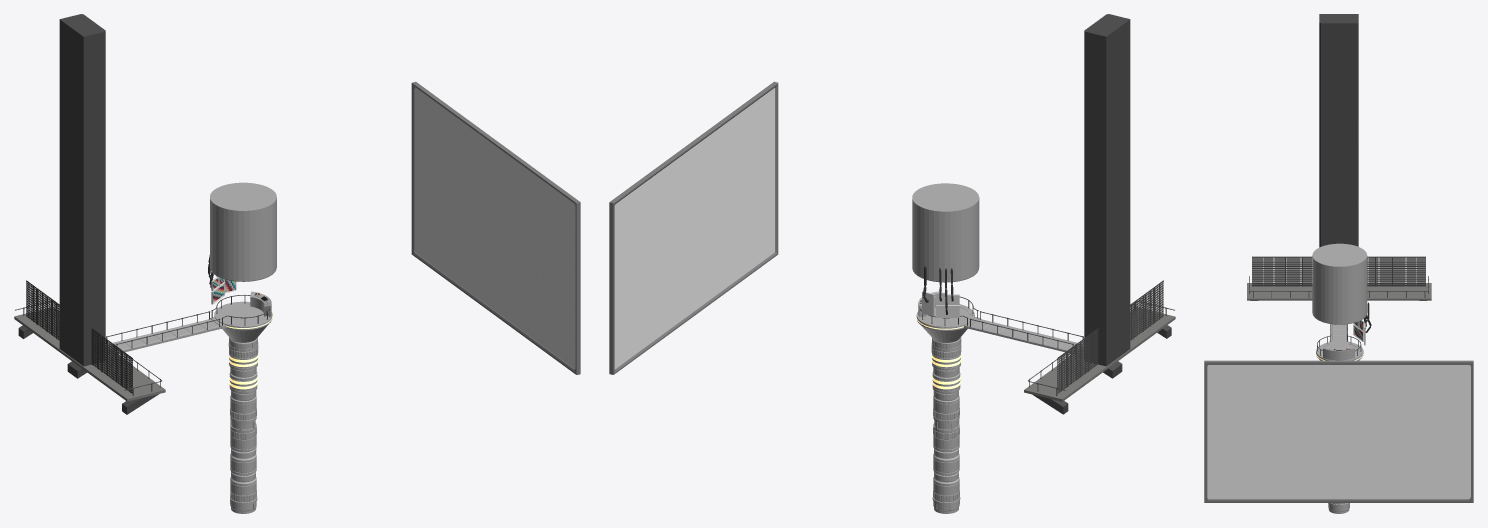
Rendered from controlroom_low_v04.glb.
The picture shows the model from 3 angles, left to right: view 1: azimuth 30°, elevation 25°; view 2: azimuth 150°, elevation 25°; view 3: azimuth 270°, elevation 25°; orthographic projection. The views are drawn at different scales.
Parts seen in each view (by area): view 1: Room, Portal, TV_frame; view 2: Room, Portal, TV_frame; view 3: Portal, Room, TV_frame, Panel.
Part boxes in pixels (x1=…): Room: x1=14, y1=14, x2=276, y2=513; Portal: x1=414, y1=87, x2=575, y2=369; TV_frame: x1=411, y1=81, x2=580, y2=374; Room: x1=912, y1=14, x2=1175, y2=513; Portal: x1=614, y1=87, x2=775, y2=369; TV_frame: x1=609, y1=81, x2=778, y2=374; Portal: x1=1207, y1=365, x2=1470, y2=498; Room: x1=1247, y1=14, x2=1431, y2=513; TV_frame: x1=1204, y1=360, x2=1473, y2=502; Panel: x1=1323, y1=348, x2=1354, y2=360.
Size of the model in its own units: 33.37 by 38.87 by 22.22.
32 materials, 4 textured.
